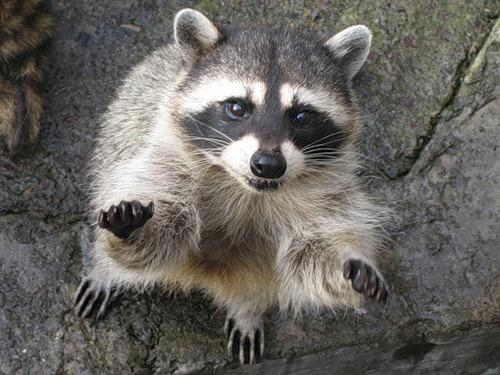raccoon: (74, 8, 391, 365)
